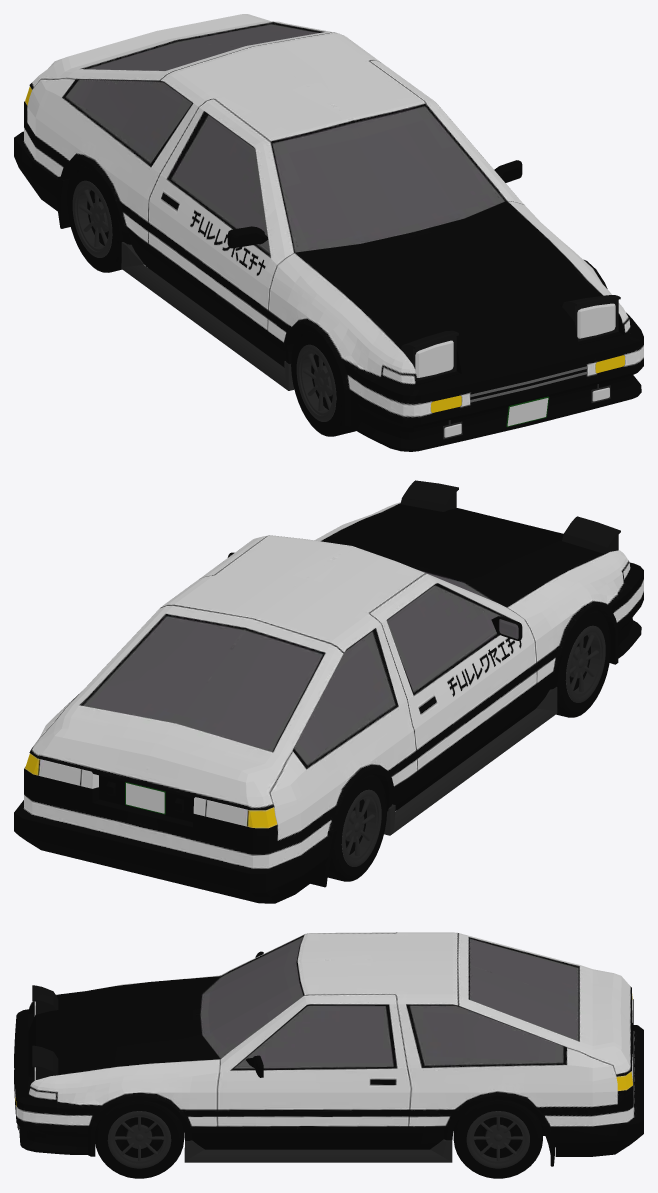
Rendered from initialdcarmesh.glb.
3 renders of one model, top to bottom at view 1: azimuth 30°, elevation 25°; view 2: azimuth 150°, elevation 25°; view 3: azimuth 270°, elevation 25°, orthographic. The views are drawn at different scales.
Visible parts, largest first — view 1: Wiel_Achter_L_Mat_InitialDCar_0; view 2: Wiel_Achter_L_Mat_InitialDCar_0; view 3: Wiel_Achter_L_Mat_InitialDCar_0.
Part boxes in pixels (x1,y1,x2,y2): Wiel_Achter_L_Mat_InitialDCar_0: (14, 14, 643, 451); Wiel_Achter_L_Mat_InitialDCar_0: (14, 480, 643, 903); Wiel_Achter_L_Mat_InitialDCar_0: (14, 932, 643, 1178).
Bounding box in the file's own units: 167 × 114 × 388.
Materials: 1 (1 with a texture image).
